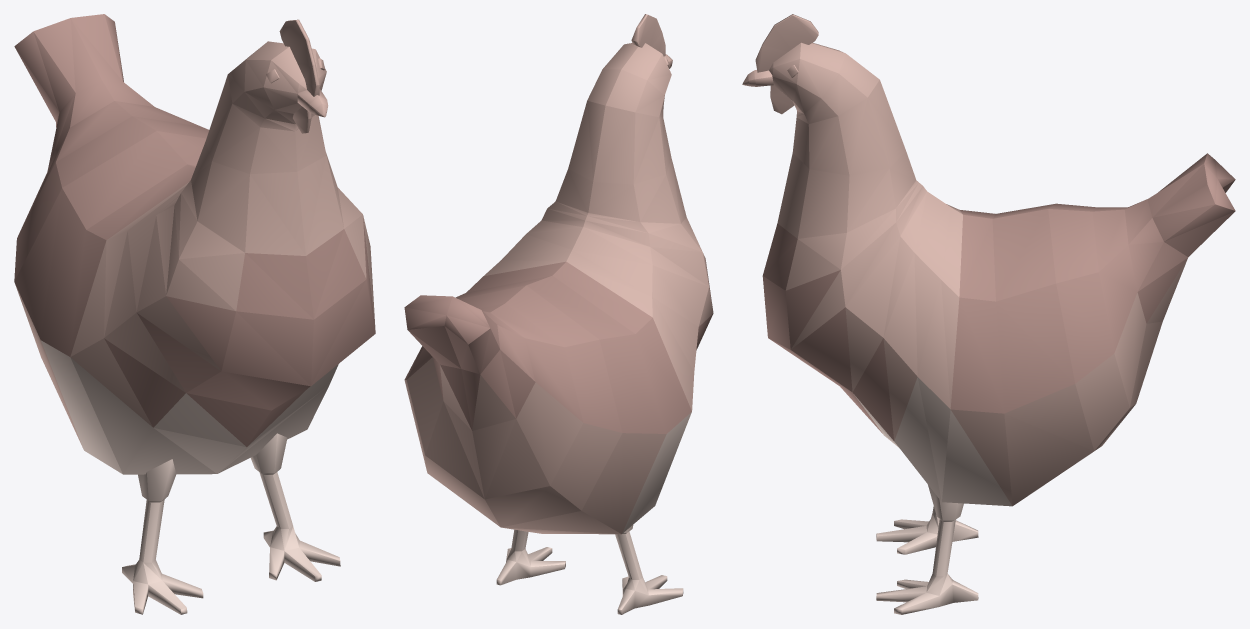
File: volaille.glb
3 views of the same model, side by side, from view 1: azimuth 30°, elevation 25°; view 2: azimuth 150°, elevation 25°; view 3: azimuth 270°, elevation 25° (orthographic). The views are drawn at different scales.
Visible parts, largest first — view 1: Geo_Hen; view 2: Geo_Hen; view 3: Geo_Hen.
Part boxes in pixels (left/top/right/bottom): Geo_Hen: left=14, top=14, right=375, bottom=614; Geo_Hen: left=404, top=14, right=713, bottom=614; Geo_Hen: left=742, top=14, right=1235, bottom=614.
Size of the model in its own units: 36.96 by 77.08 by 62.1.
